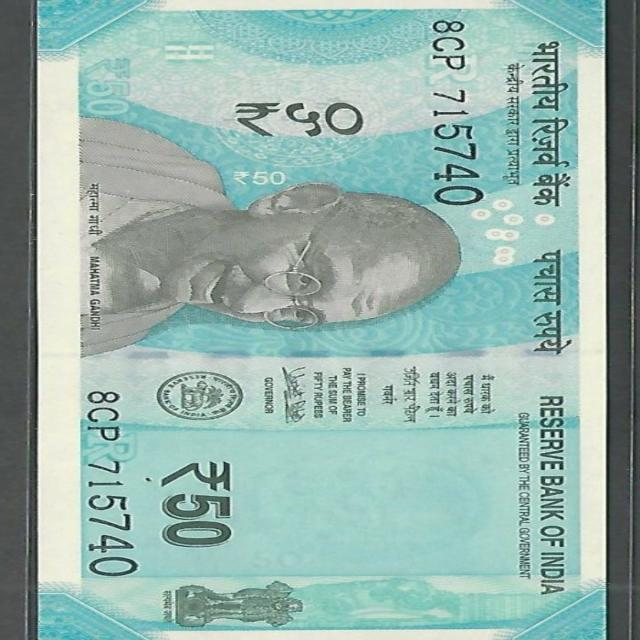50IndianRupees: (34, 0, 604, 640)
